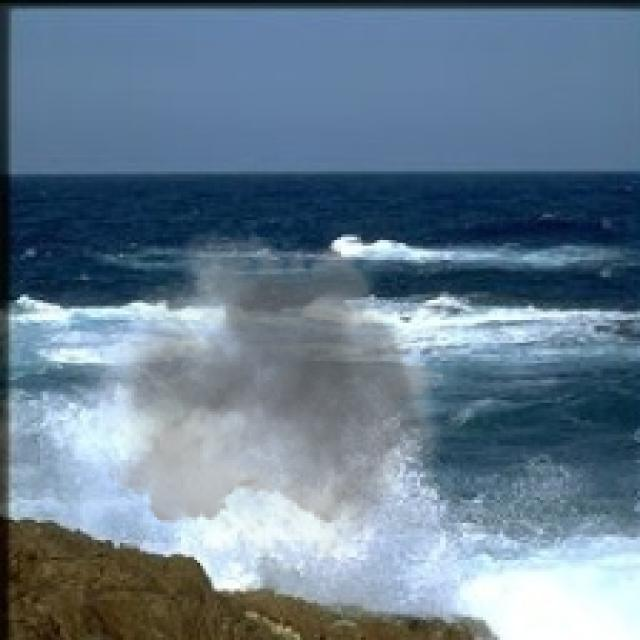smoke: (94, 211, 457, 603)
